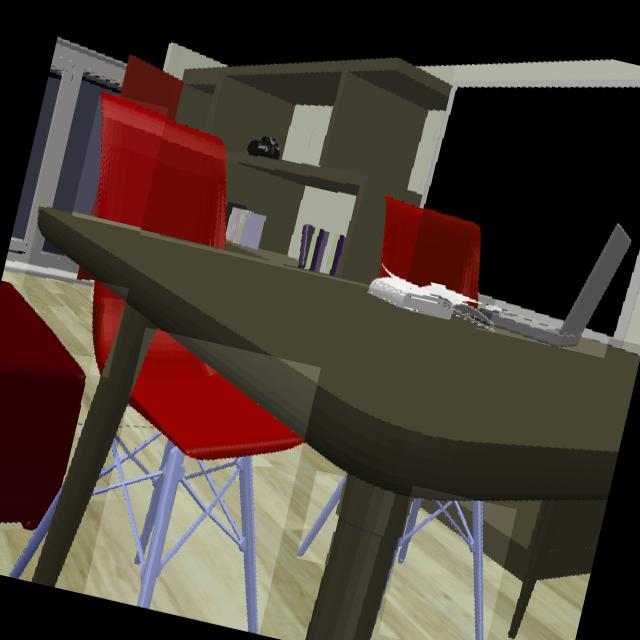book: (366, 275, 490, 324)
bookshelf: (177, 57, 451, 285)
chair: (127, 330, 303, 633), (91, 93, 226, 250), (397, 501, 485, 640), (380, 196, 482, 300), (7, 486, 59, 578), (298, 476, 346, 558), (90, 280, 125, 376)
laptop: (478, 224, 629, 348)
monitor: (421, 77, 640, 348)
sofa: (0, 281, 86, 533)
table: (31, 208, 640, 640)
